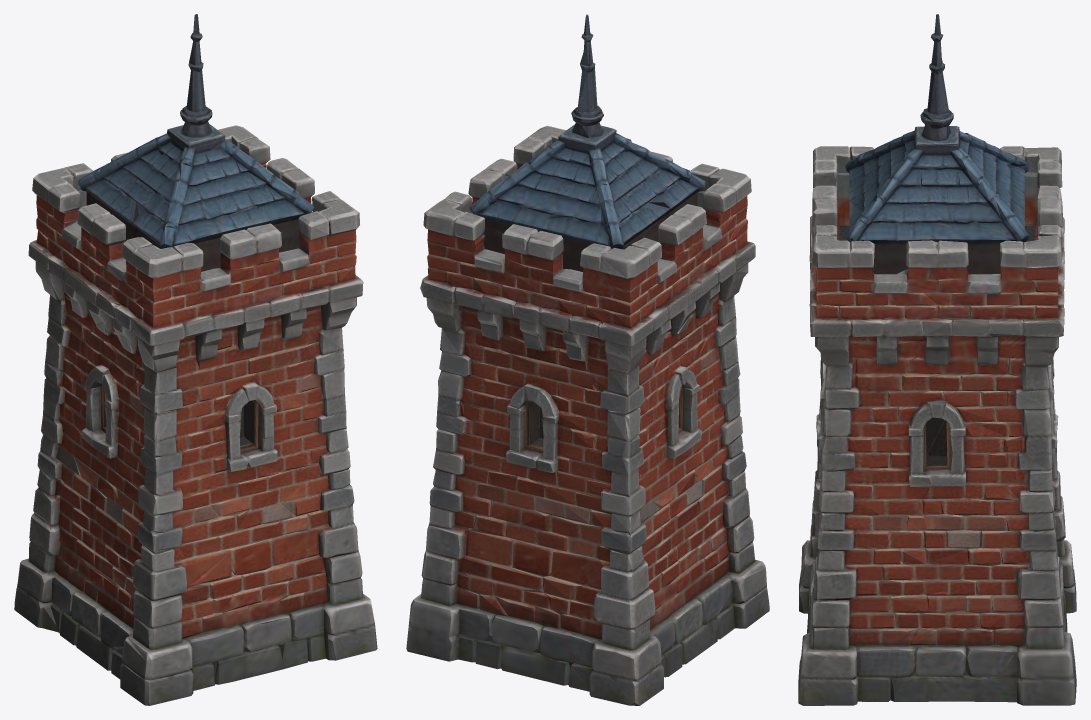
File: wallpost.glb
3 views of the same model, side by side, from view 1: azimuth 30°, elevation 25°; view 2: azimuth 150°, elevation 25°; view 3: azimuth 270°, elevation 25° (orthographic). The views are drawn at different scales.
Size of the model in its own units: 0.7578 by 1.9 by 0.7571.
1 material, 1 textured.
